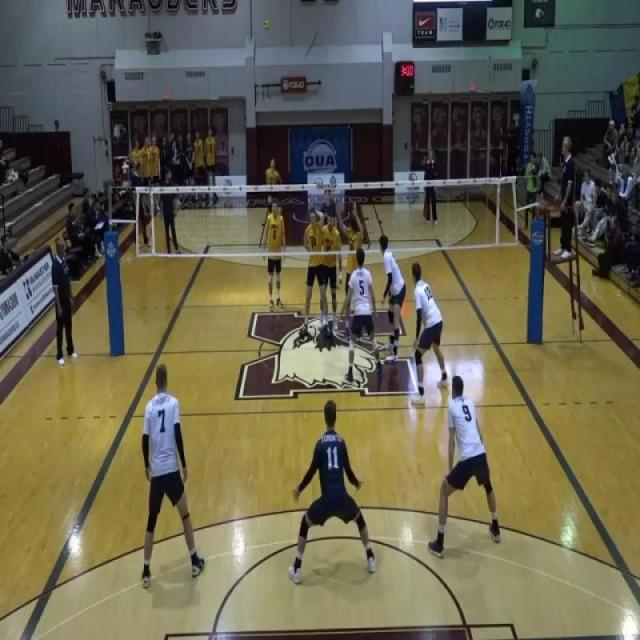volleyball: (264, 18, 270, 32), (529, 164, 535, 173)
